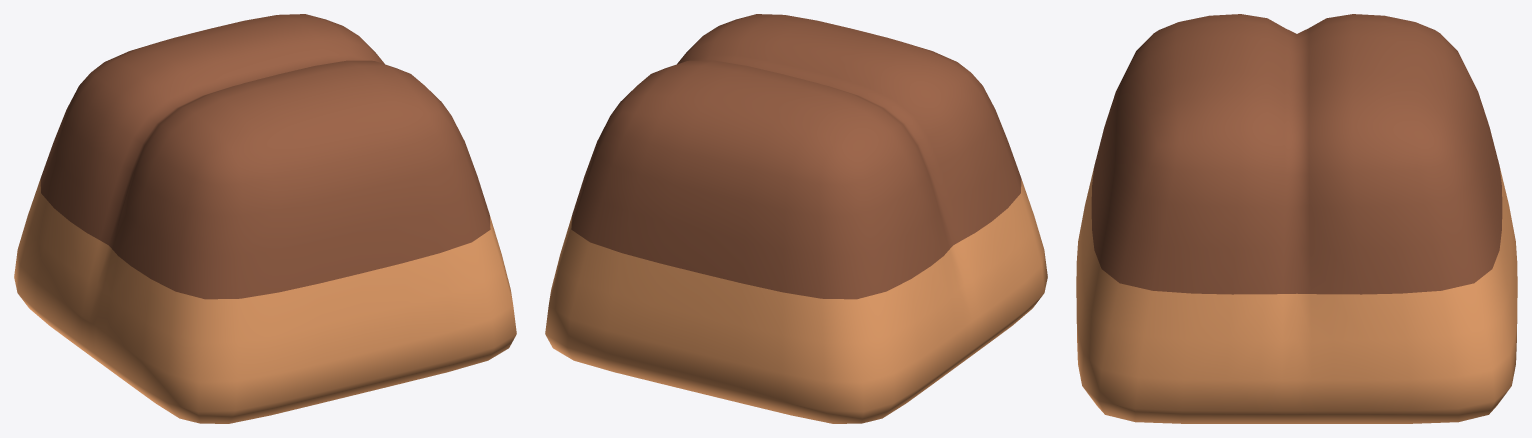
Rendered from Pudding_B_02.fbx.
The picture shows the model from 3 angles, left to right: view 1: azimuth 30°, elevation 25°; view 2: azimuth 150°, elevation 25°; view 3: azimuth 270°, elevation 25°; orthographic projection. The views are drawn at different scales.
Parts seen in each view (by area): view 1: Pudding_B_02_LOD0; view 2: Pudding_B_02_LOD0; view 3: Pudding_B_02_LOD0.
Part boxes in pixels (bbox=[...]): Pudding_B_02_LOD0: bbox=[14, 14, 516, 423]; Pudding_B_02_LOD0: bbox=[545, 14, 1047, 423]; Pudding_B_02_LOD0: bbox=[1076, 14, 1517, 423].
Size of what is drawn, in the model's own units: 463 by 341 by 464.
